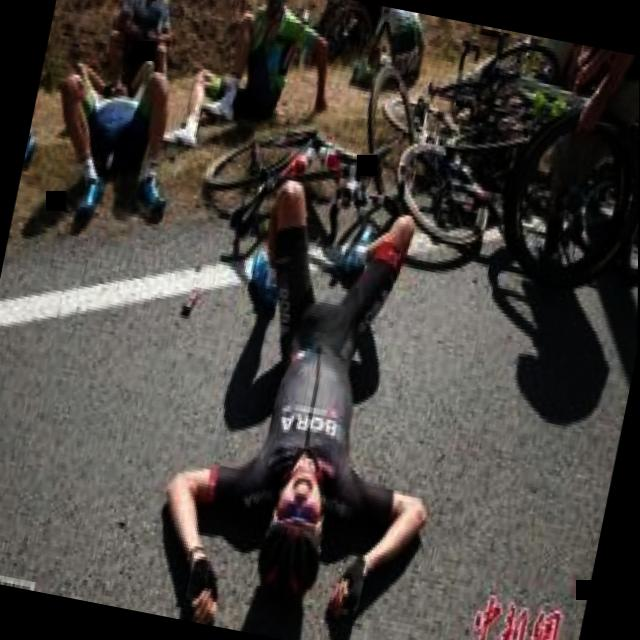Fall-Detected: (329, 0, 437, 96)
